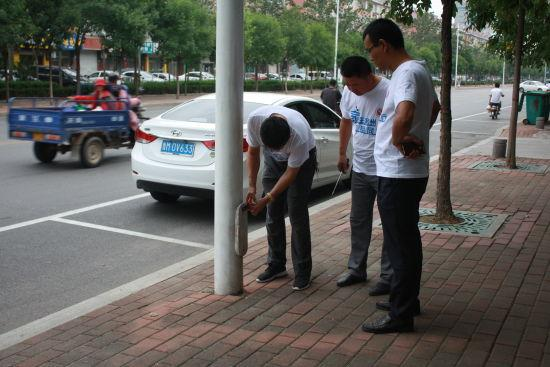bending: (242, 101, 324, 290)
up: (364, 21, 428, 340), (333, 59, 390, 293)
